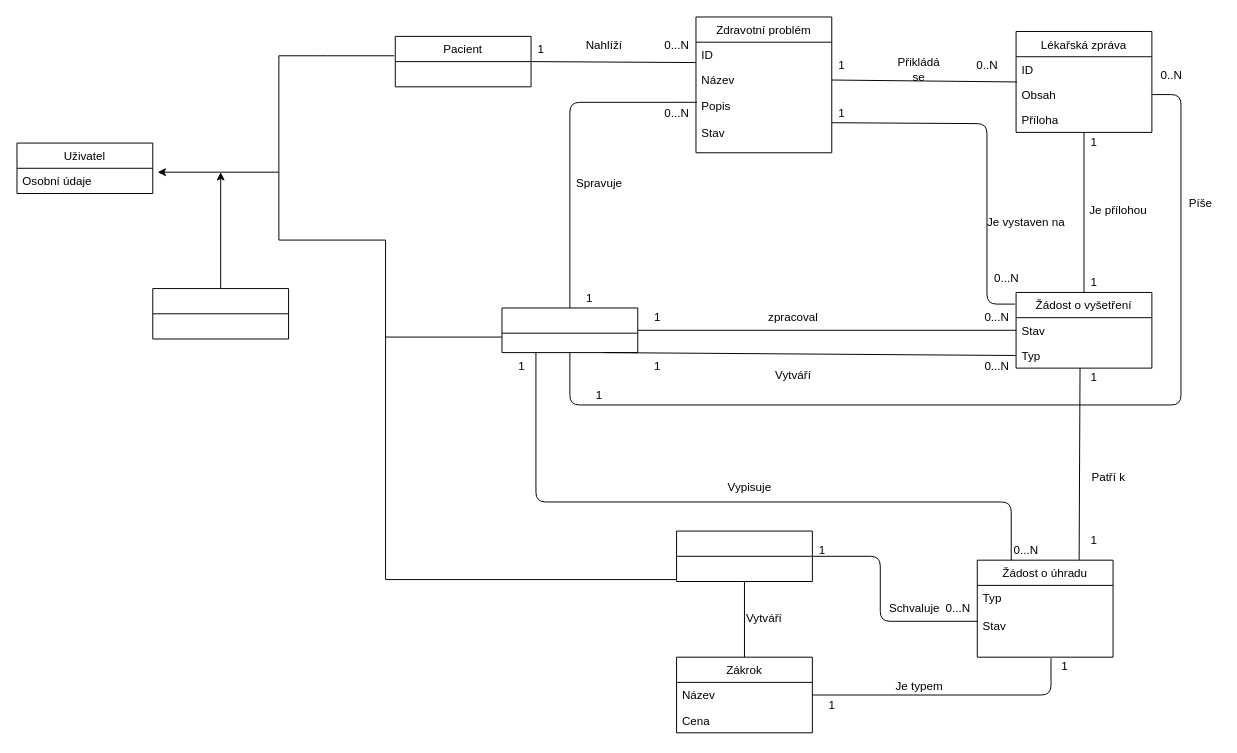
This 1237x753 diagram has some shape labels left out. Here are the shapes that lost their labels. From the top down, the centre of each, then its label:
At [220,313]: "Admin".
At [569,330]: "Lékař".
At [744,556]: "Pracovník pojišťovny".
